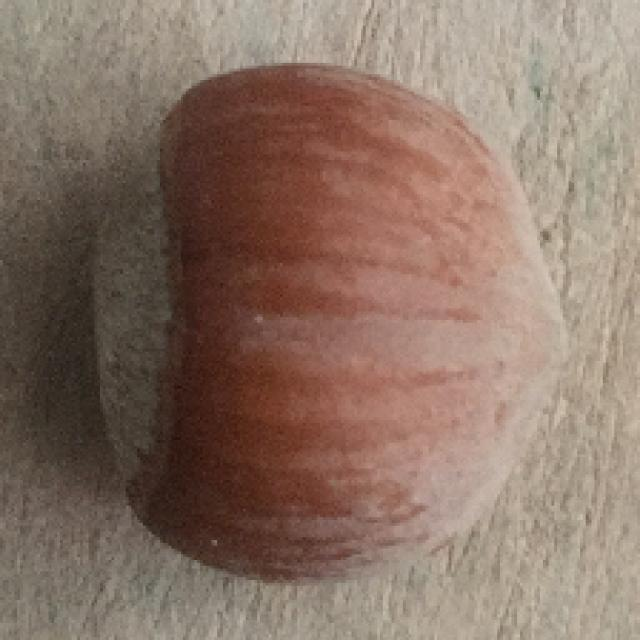QualityHazelnut: (86, 63, 579, 585)
